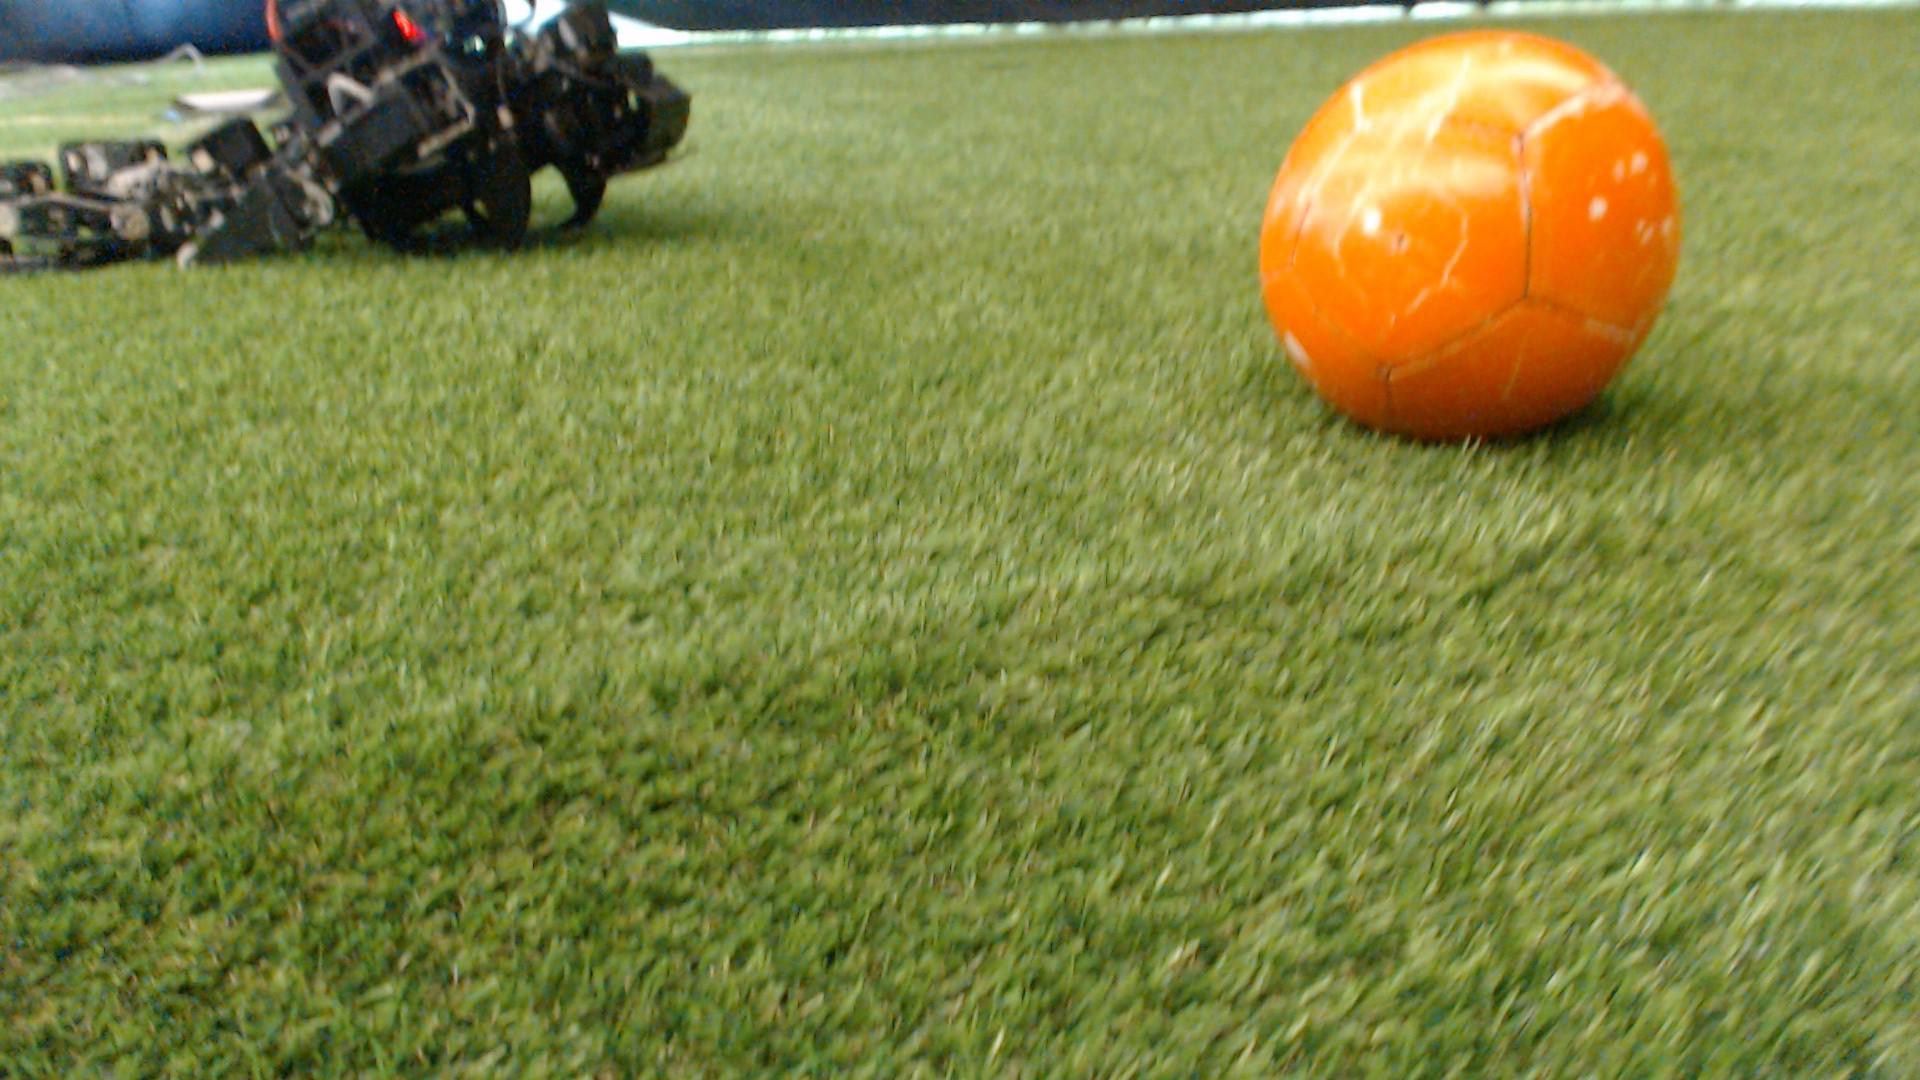bola: (1208, 12, 1729, 475)
